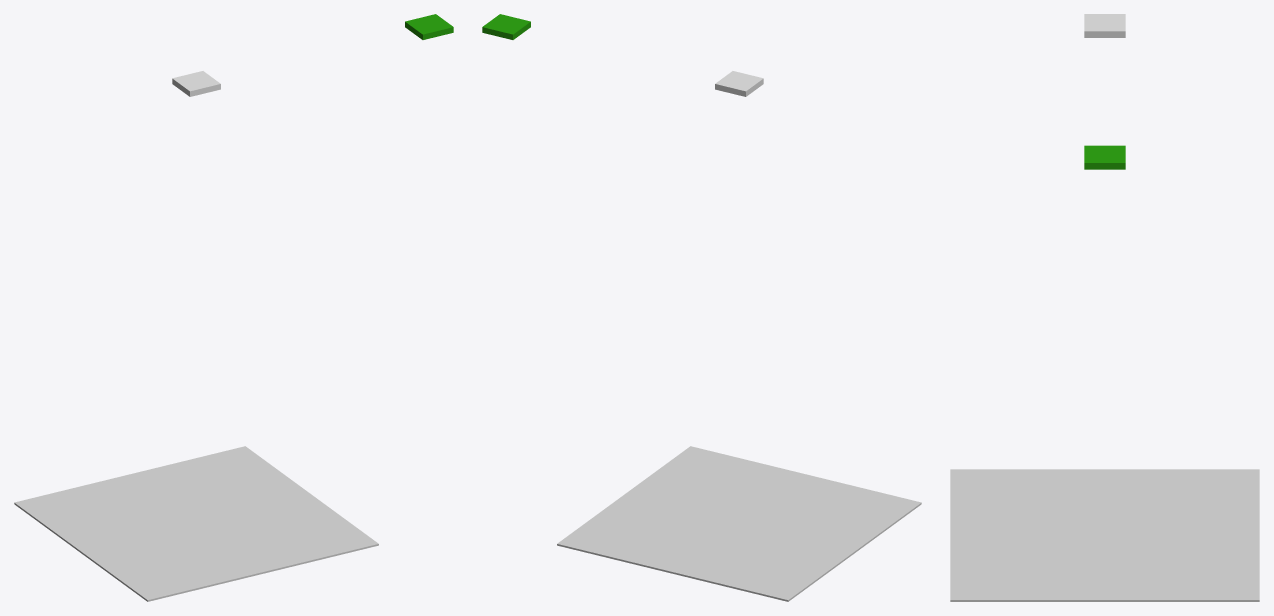
Rendered from level3.gltf.
3 views of the same model, side by side, from view 1: azimuth 30°, elevation 25°; view 2: azimuth 150°, elevation 25°; view 3: azimuth 270°, elevation 25° (orthographic). The views are drawn at different scales.
Visible parts, largest first — view 1: Cube, Cube.001, Cube.002; view 2: Cube, Cube.001, Cube.002; view 3: Cube, Cube.001, Cube.002.
Boxes of the visible parts, <box> form: Cube: <box>14,446,378,601</box>; Cube.001: <box>405,14,453,39</box>; Cube.002: <box>172,71,220,96</box>; Cube: <box>557,446,921,601</box>; Cube.001: <box>482,14,530,39</box>; Cube.002: <box>715,71,763,96</box>; Cube: <box>950,469,1259,601</box>; Cube.001: <box>1084,145,1125,169</box>; Cube.002: <box>1084,14,1125,37</box>.
Size of the model in its own units: 39.08 by 45.54 by 24.83.
